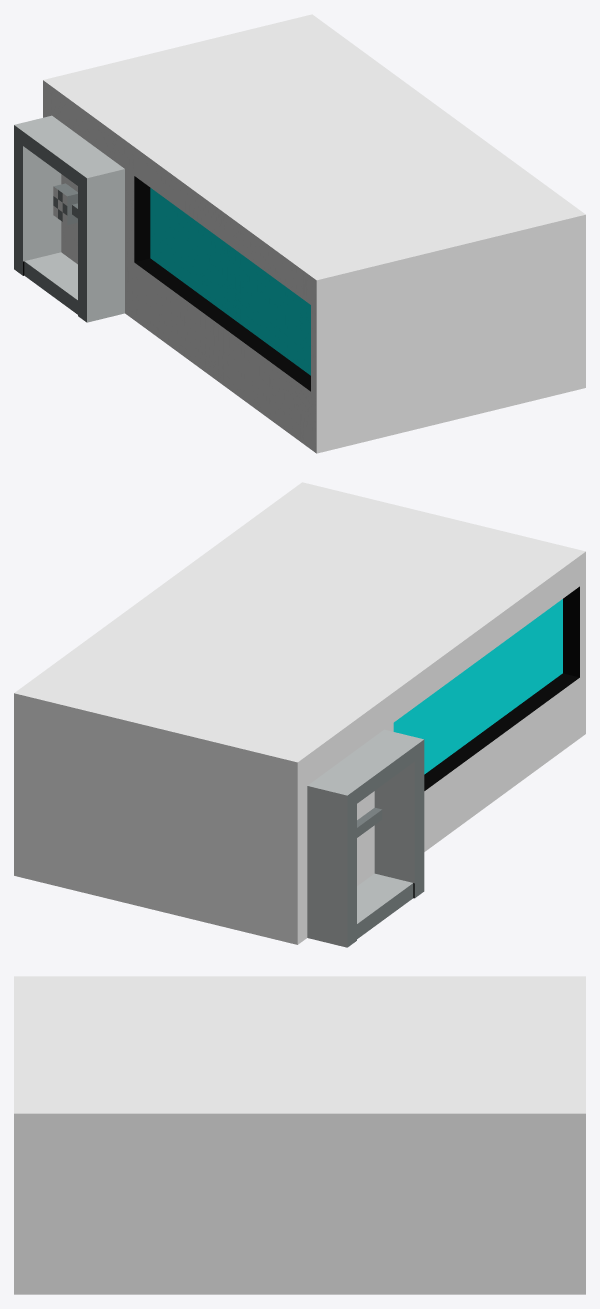
File: house1.fbx
3 views of the same model, one above another, from view 1: azimuth 30°, elevation 25°; view 2: azimuth 150°, elevation 25°; view 3: azimuth 270°, elevation 25° (orthographic). The views are drawn at different scales.
Visible parts, largest first — view 1: Cube; view 2: Cube; view 3: Cube.
Boxes of the visible parts, x1=… form: Cube: x1=14, y1=14, x2=585, y2=453; Cube: x1=14, y1=482, x2=585, y2=947; Cube: x1=14, y1=976, x2=585, y2=1294.
Bounding box in the file's own units: 98.75 × 53.19 × 152.
Materials: 1 (1 with a texture image).
